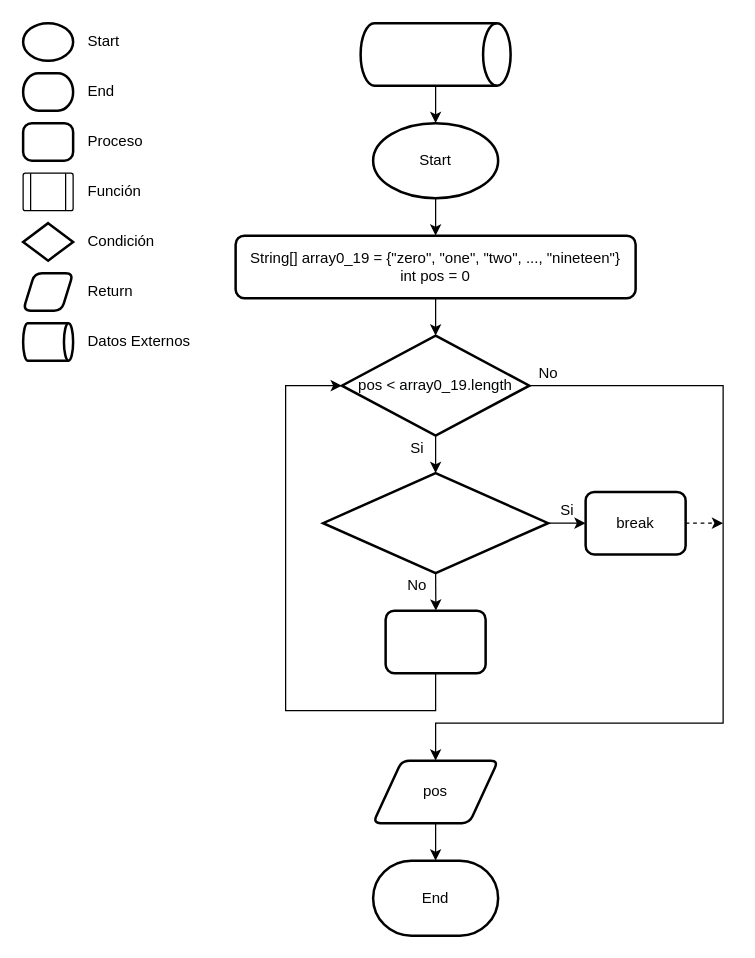
The diagram is 755 pixels wide and 958 high, and some of its shapes have lost their labels. The box of each missing label's shape, as (x1, y1, x2, y2) in pixels:
pos++: (384, 609, 486, 674)
String word: (359, 21, 511, 86)
word.equals(array0_19[pos]): (321, 471, 549, 574)
